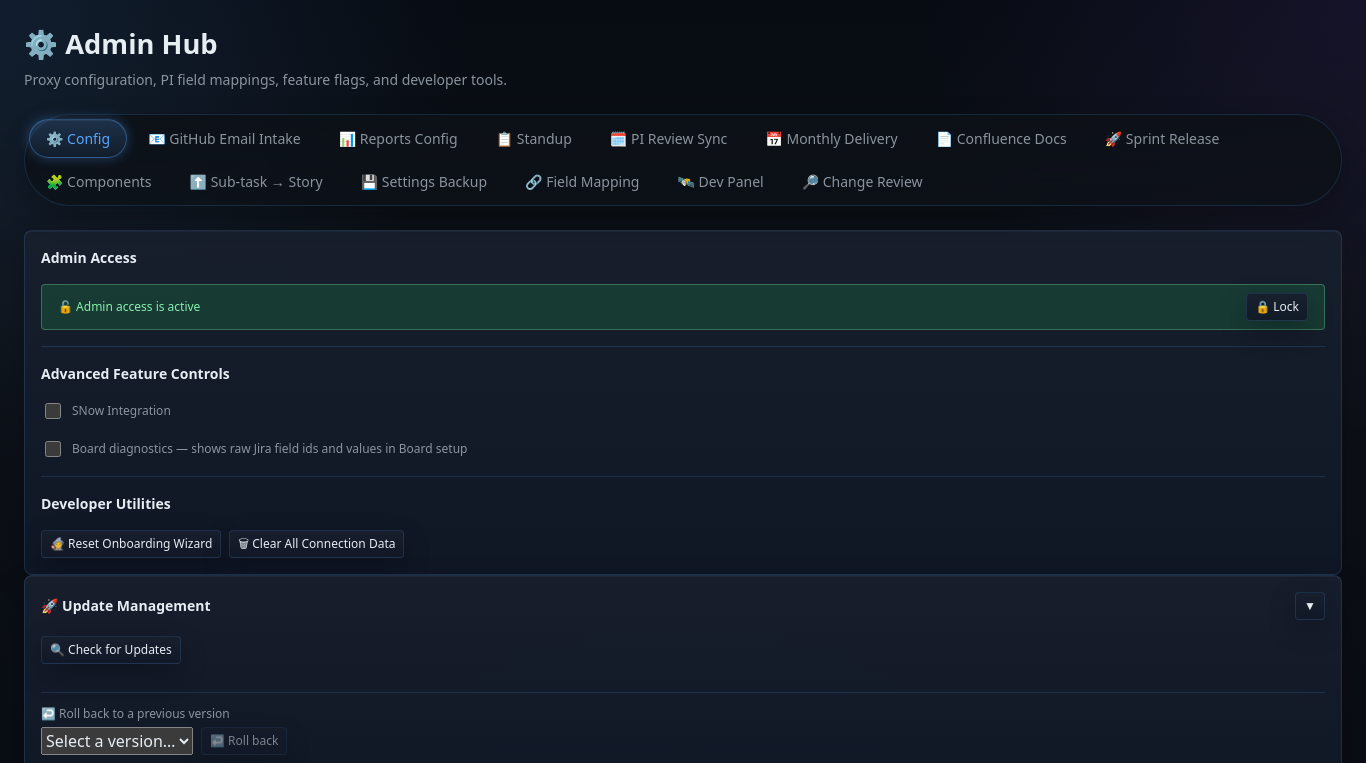
Diagnostics section › renders the error message when diagnosticsError is set
Click the tab "🛰️ Dev Panel" at (721, 182), box 660,162 -> 781,201
(page scrolled)
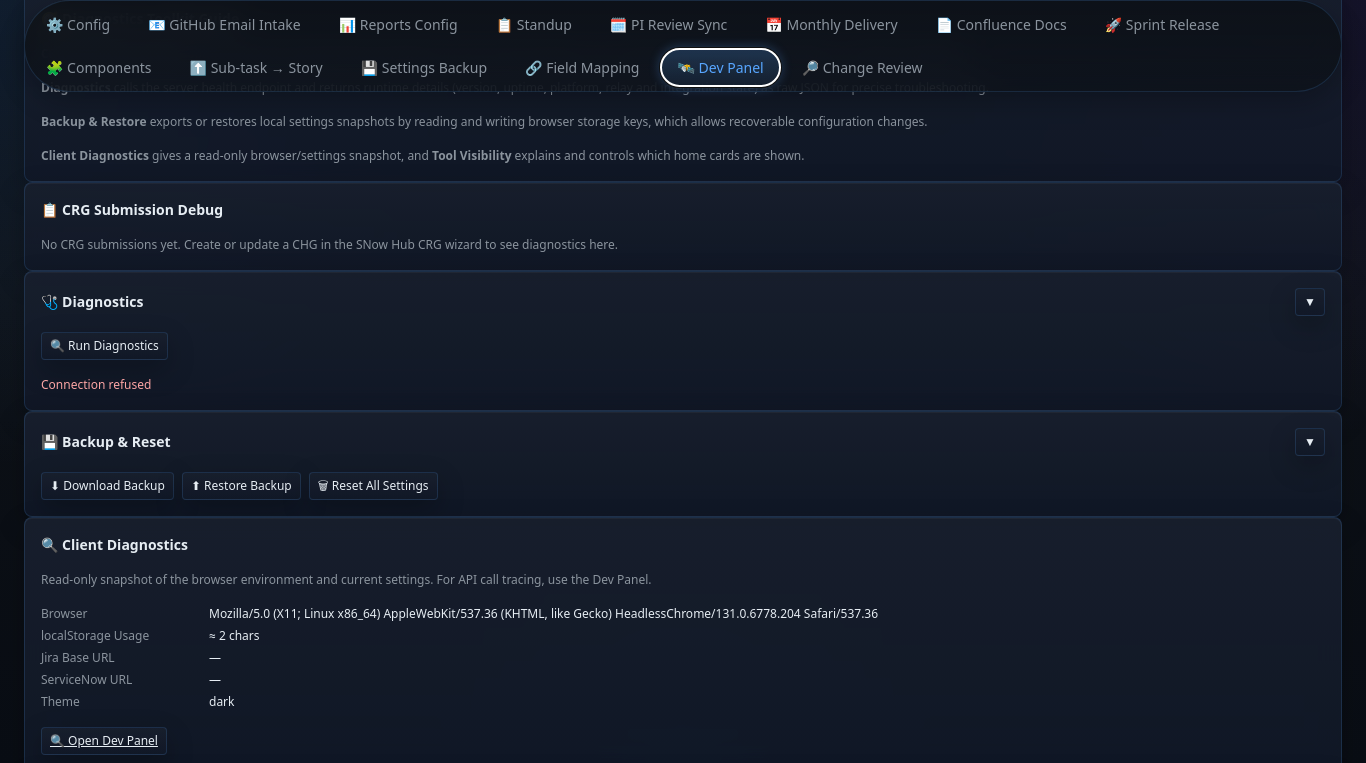
Check: the text "Connection refused" is shown, box 41,376 -> 151,393
